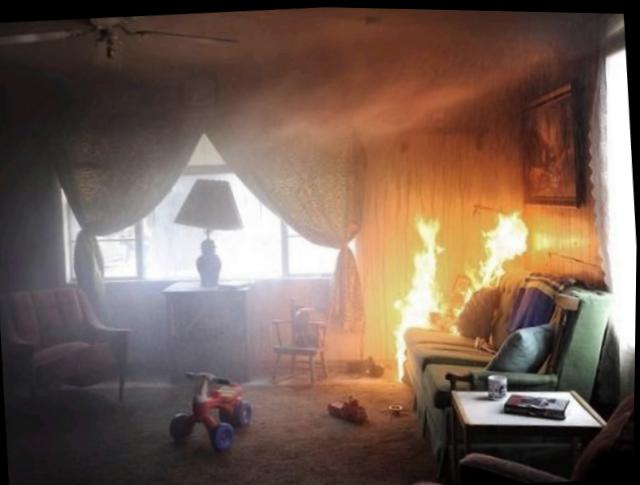fire: (363, 175, 566, 385)
